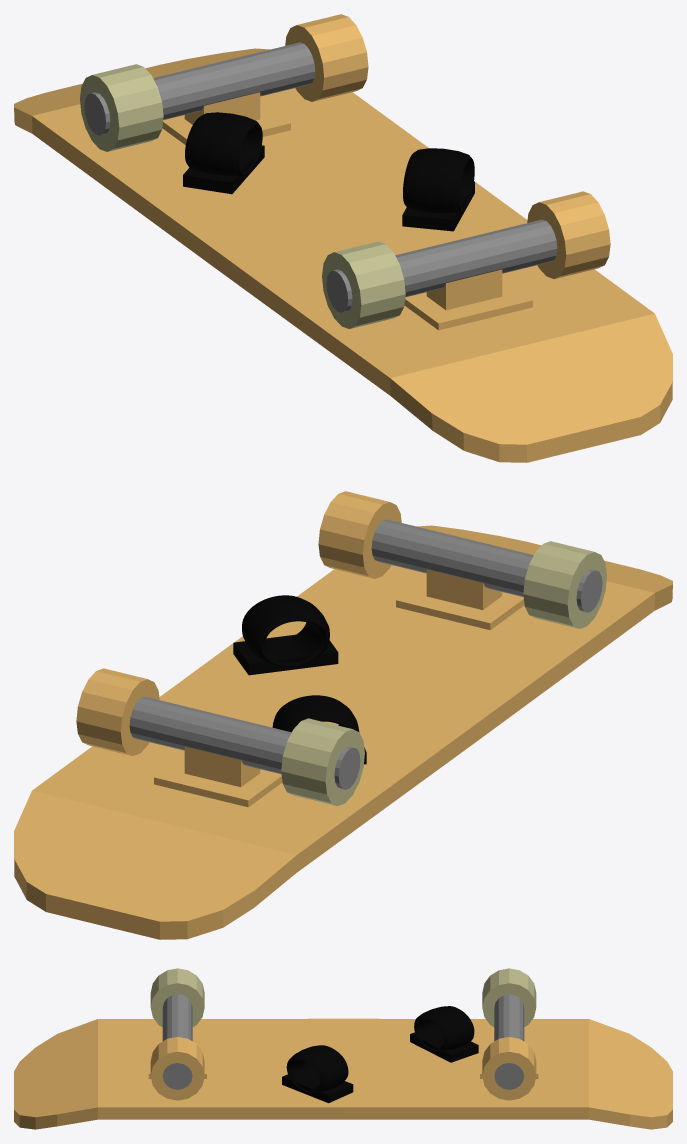
File: SktbrdModel.fbx
3 renders of one model, top to bottom at view 1: azimuth 30°, elevation 25°; view 2: azimuth 150°, elevation 25°; view 3: azimuth 270°, elevation 25°, orthographic. The views are drawn at different scales.
Visible parts, largest first — view 1: Cube, Torus.001, Torus; view 2: Cube, Torus, Torus.001; view 3: Cube, Torus, Torus.001.
Boxes of the visible parts, bbox=[...] form: Cube: bbox=[14, 14, 672, 462]; Torus.001: bbox=[183, 112, 264, 194]; Torus: bbox=[402, 148, 474, 231]; Cube: bbox=[14, 491, 672, 939]; Torus: bbox=[233, 595, 338, 675]; Torus.001: bbox=[272, 695, 366, 764]; Cube: bbox=[14, 968, 672, 1129]; Torus: bbox=[282, 1045, 353, 1103]; Torus.001: bbox=[410, 1006, 478, 1062].
Size of the model in its own units: 200 by 98.35 by 628.
